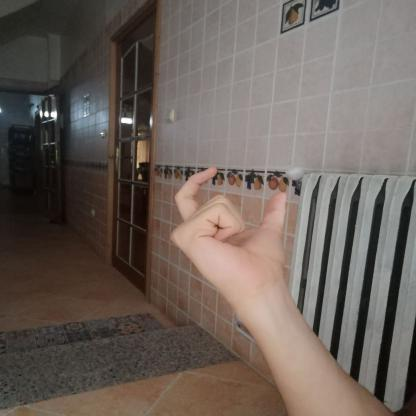NOON: (155, 159, 296, 302)
